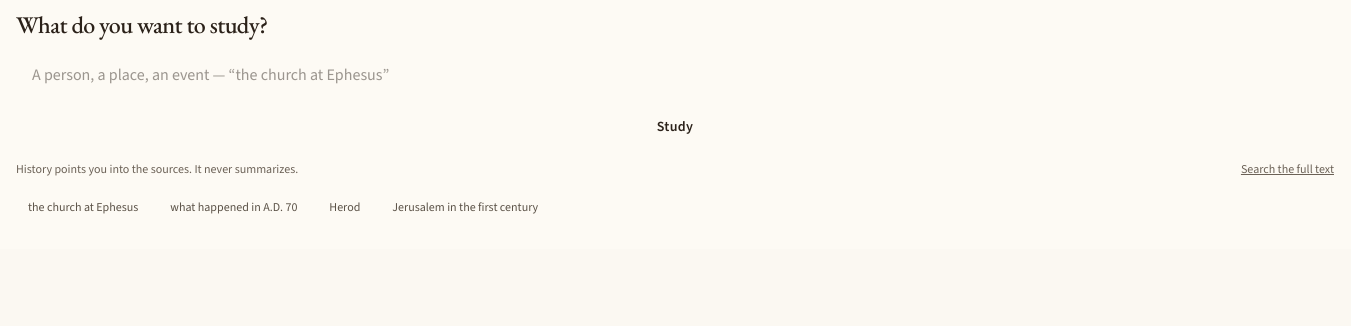
Test: the study entrance routes into History mode › full-text search is demoted behind a reveal, and the reveal is the real CatalogSearch
Expected: the field with placeholder "Search historians…" is not shown
Click the button "Search the full text" at [1287, 169], box [1241, 161, 1334, 177]
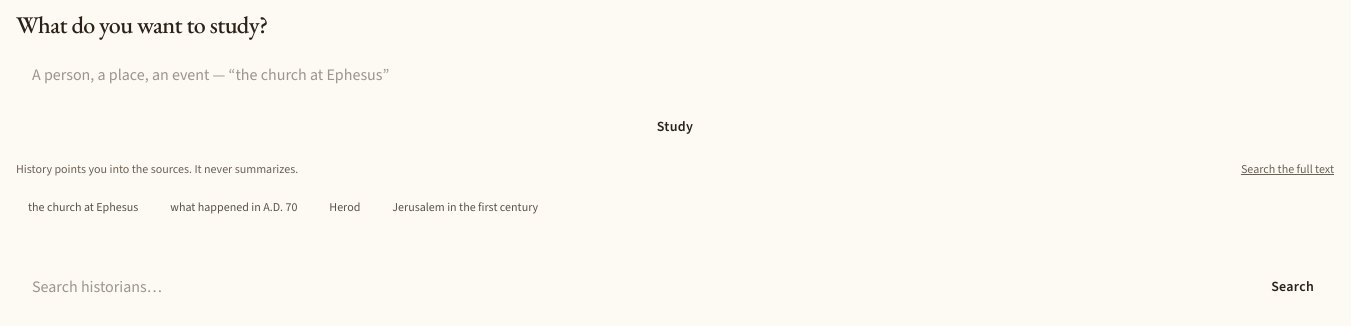
Expected: the button "Search" is shown, [1251, 265, 1334, 309]
